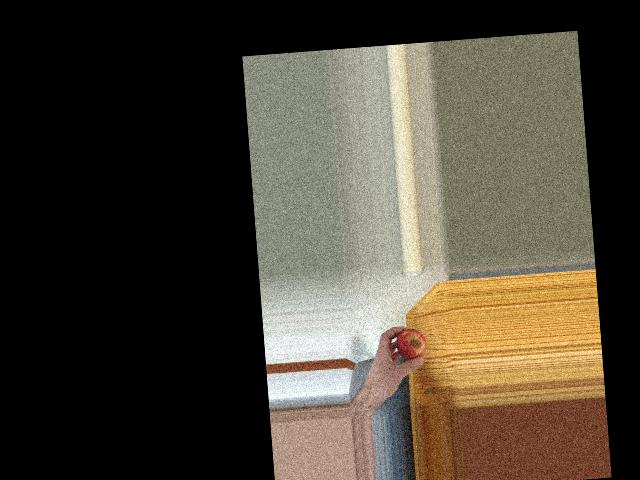apple: (394, 326, 427, 364)
